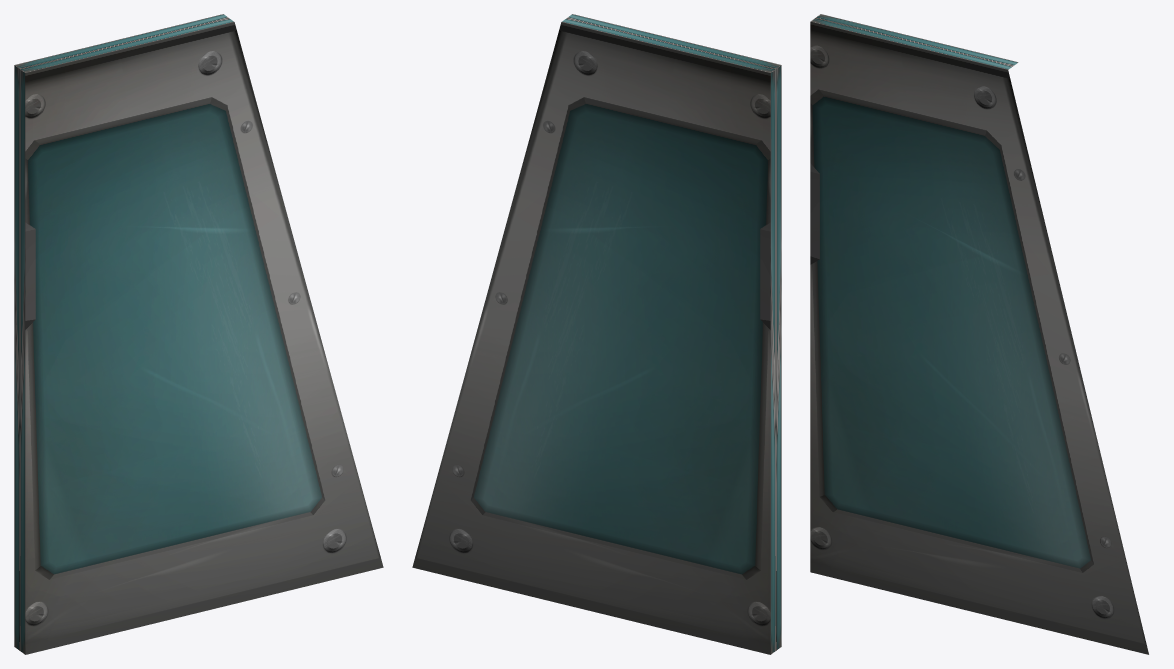
Rendered from door panel r.glb.
3 views of the same model, side by side, from view 1: azimuth 30°, elevation 25°; view 2: azimuth 150°, elevation 25°; view 3: azimuth 330°, elevation 25° (orthographic). The views are drawn at different scales.
Parts seen in each view (by area): view 1: Box006; view 2: Box006; view 3: Box006.
Boxes of the visible parts, <box> form: Box006: <box>14,14,383,654</box>; Box006: <box>412,14,781,654</box>; Box006: <box>810,14,1148,654</box>.
Bounding box in the file's own units: 1.77 × 2.75 × 0.095.
1 material, 1 textured.
